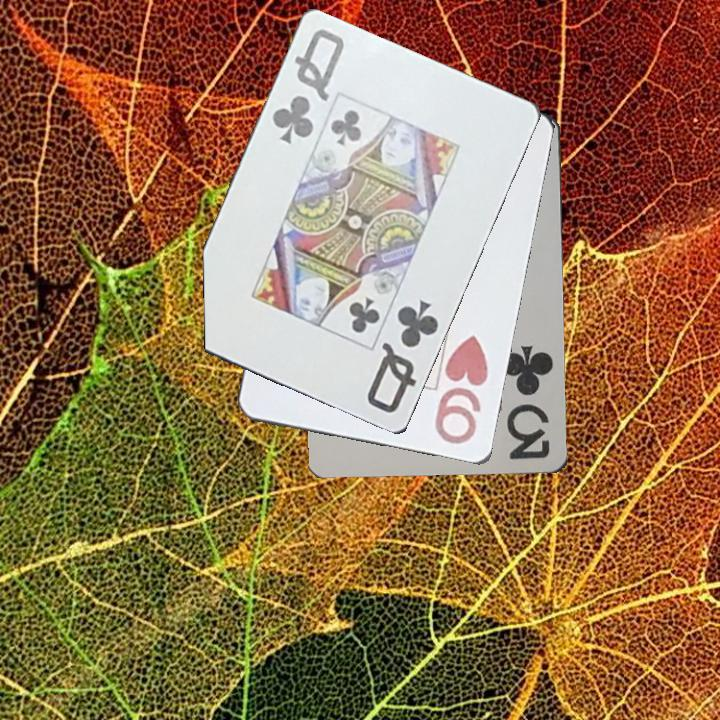3c: (502, 342, 556, 466)
9h: (432, 332, 492, 448)
Qc: (268, 25, 348, 148), (363, 296, 442, 417)
